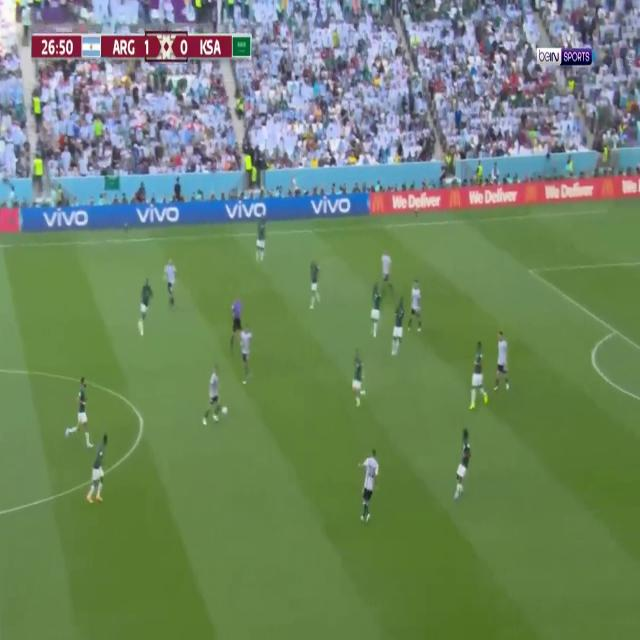ball: (221, 405, 228, 416)
team1: (66, 375, 96, 448), (86, 432, 109, 504), (453, 426, 473, 502), (468, 340, 488, 411), (137, 276, 154, 337), (391, 293, 406, 357), (351, 346, 366, 408), (370, 280, 383, 338), (309, 256, 322, 310), (255, 211, 267, 265)
team2: (358, 447, 379, 524), (202, 362, 222, 428), (493, 329, 510, 392), (162, 258, 178, 315), (239, 322, 253, 386), (407, 278, 422, 334), (380, 246, 395, 301)
